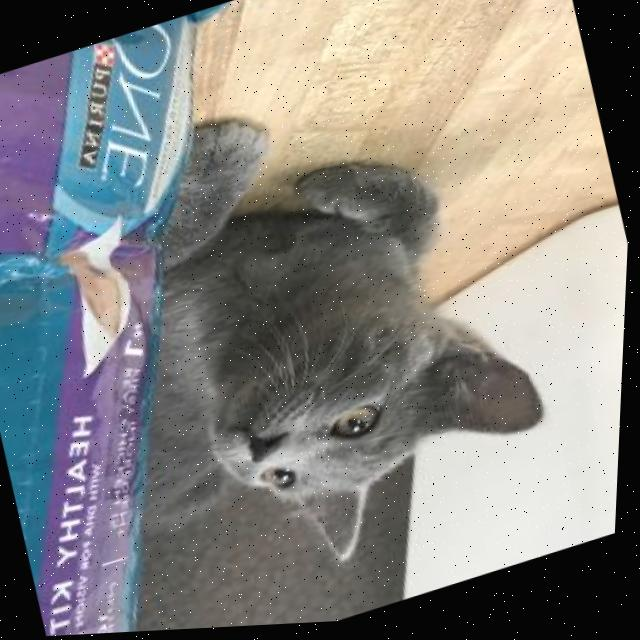Russian Blue: (39, 40, 590, 632)
